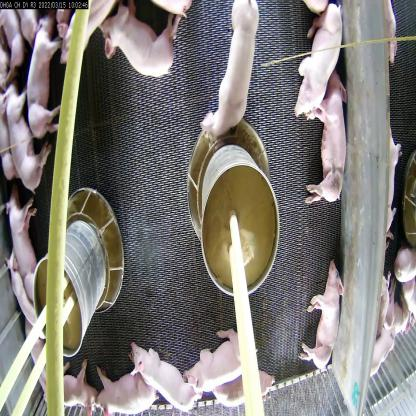Pig: (204, 1, 261, 142), (299, 260, 348, 380), (97, 17, 191, 78), (130, 339, 200, 415), (298, 11, 346, 119), (312, 79, 346, 206), (208, 353, 274, 416), (2, 90, 42, 191), (46, 0, 111, 60), (187, 322, 239, 390), (5, 252, 40, 353), (29, 35, 60, 141), (5, 194, 39, 284), (46, 362, 98, 415), (100, 375, 155, 415)
